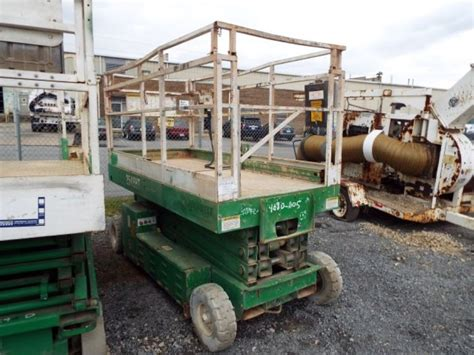Scissor Lift: (101, 21, 350, 351)
